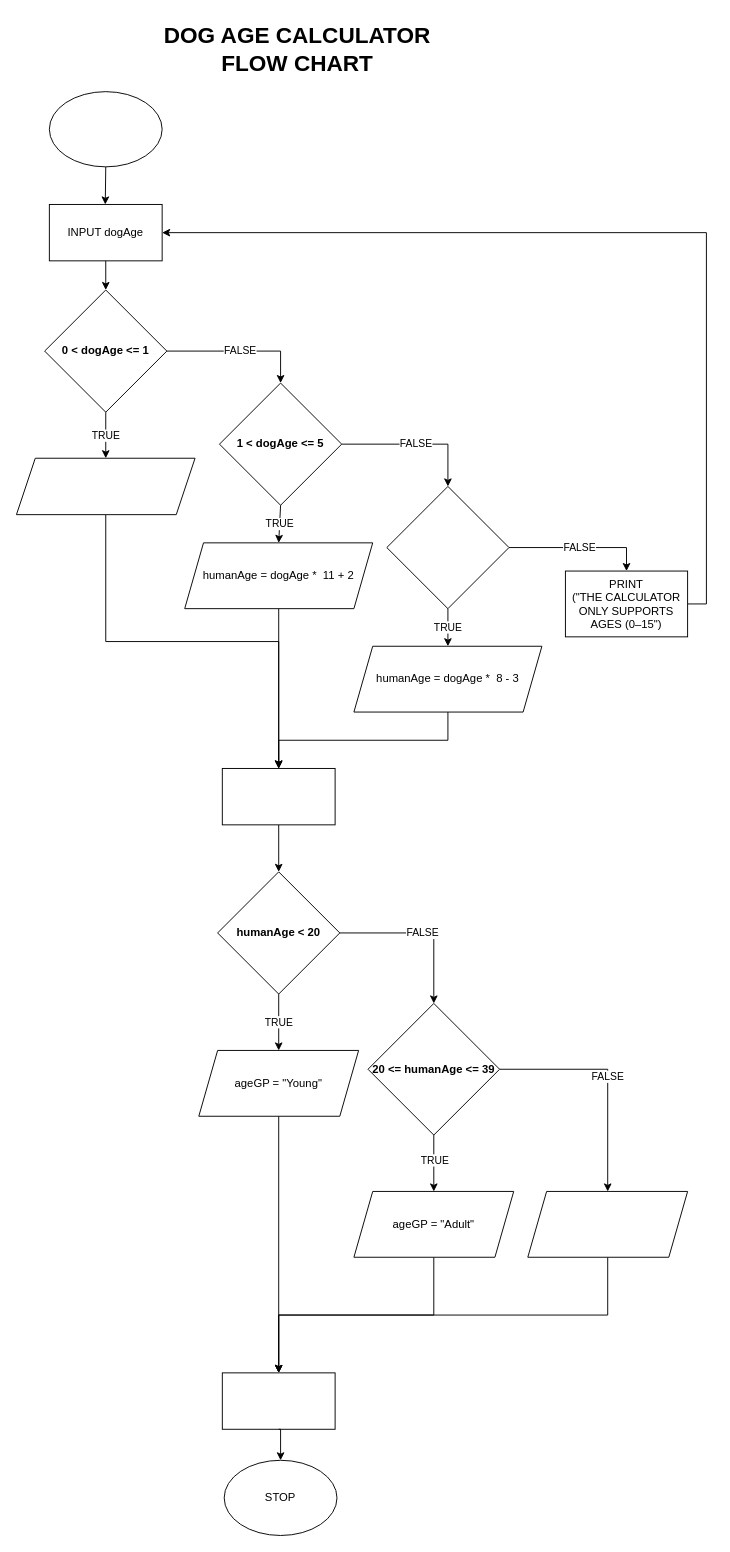
This 730x1552 diagram has some shape labels left out. The shapes that lost their labels are listed below. From the top down, each one's box as (x1, y1, x2, y2) in pixels, then its label:
(48, 91, 162, 167): START
(16, 457, 195, 515): humanAge = dogAge * 15
(386, 486, 509, 609): 5 < dogAge <= 15
(221, 768, 335, 825): humanAge
(527, 1191, 688, 1257): ageGP = "Senior"
(221, 1372, 335, 1429): PRINT humanAge and ageGP
